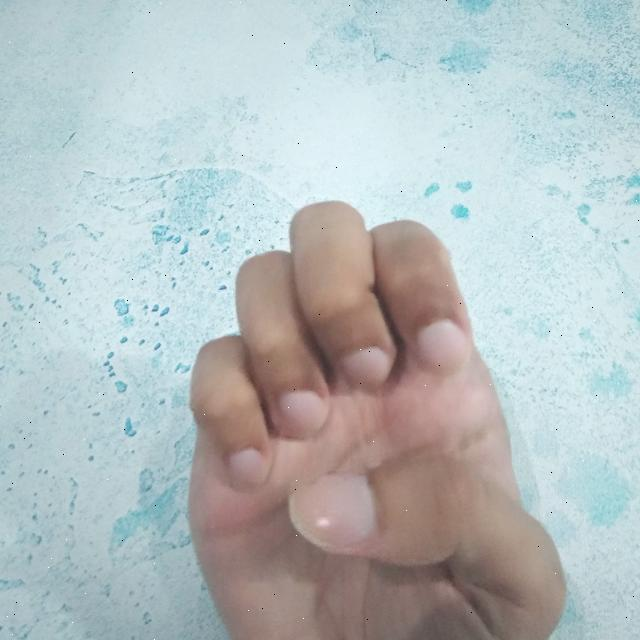E: (183, 200, 565, 640)
